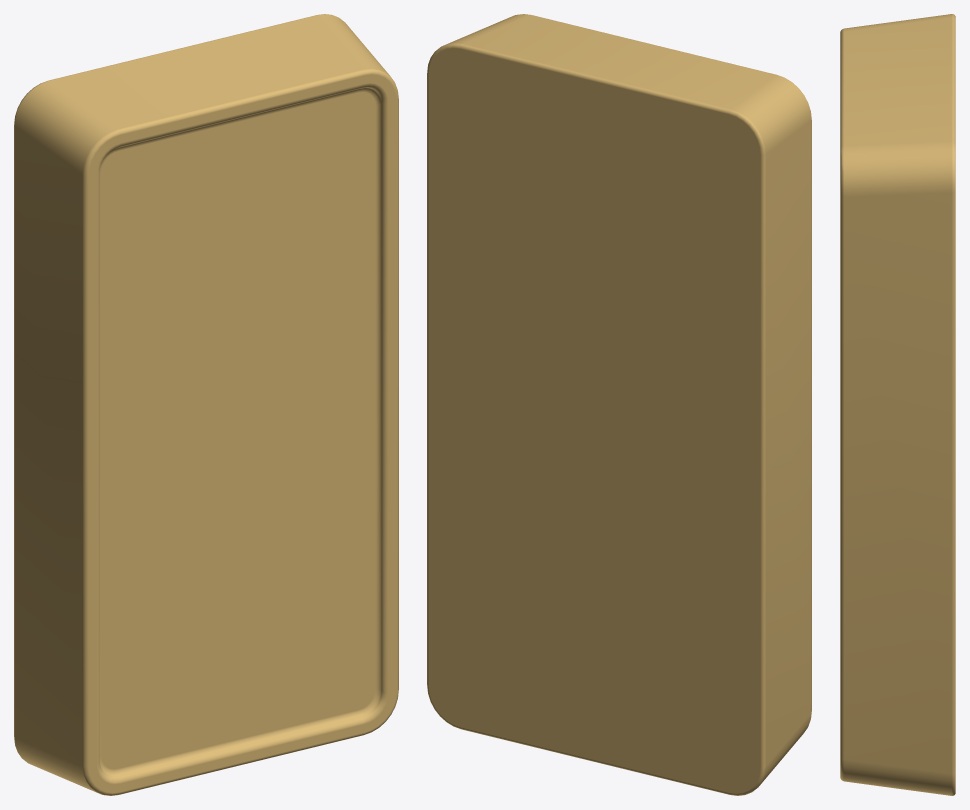
File: goldb.glb
The picture shows the model from 3 angles, left to right: view 1: azimuth 30°, elevation 25°; view 2: azimuth 150°, elevation 25°; view 3: azimuth 270°, elevation 25°; orthographic projection. The views are drawn at different scales.
Parts seen in each view (by area): view 1: Cube.001; view 2: Cube.001; view 3: Cube.001.
Boxes of the visible parts, left/top/right/bottom form: Cube.001: left=14, top=14, right=398, bottom=795; Cube.001: left=427, top=14, right=811, bottom=795; Cube.001: left=840, top=14, right=955, bottom=795.
Bounding box in the file's own units: 0.9342 × 1.81 × 0.2913.
